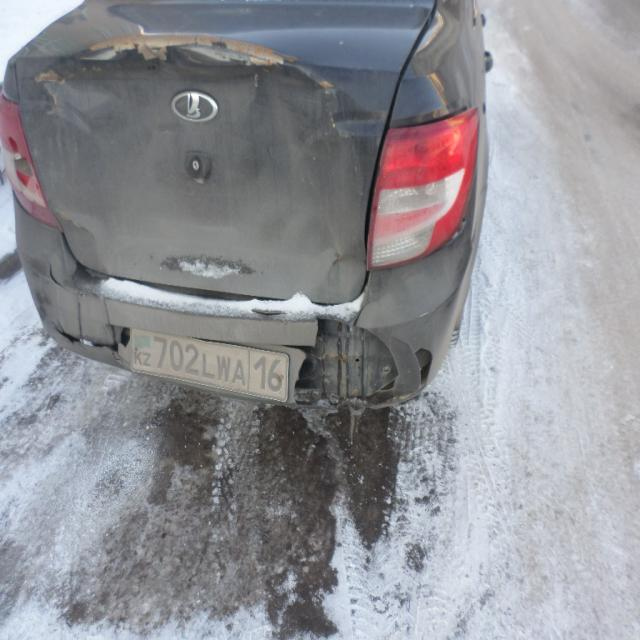Cabossage: (47, 49, 335, 299), (327, 98, 388, 161), (322, 236, 367, 308), (51, 210, 98, 277)
Dechirure: (283, 293, 409, 400), (56, 316, 133, 356), (414, 340, 437, 394), (46, 260, 67, 295)
Phare abime: (8, 130, 41, 201)
